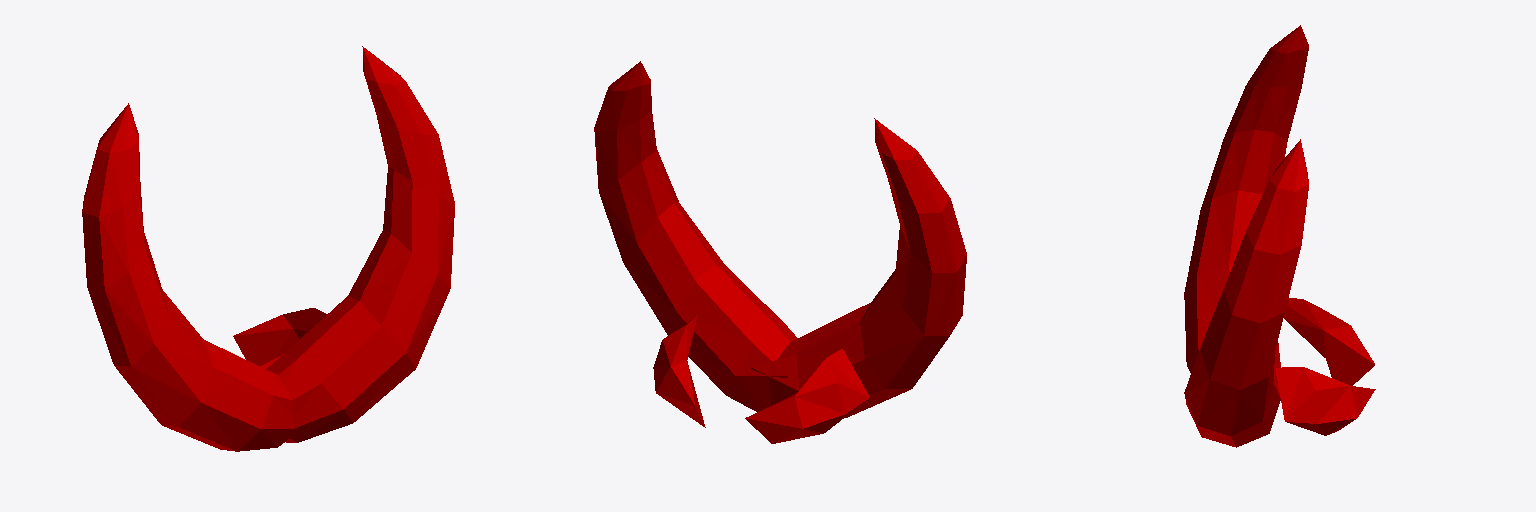
The model's file is duckEvil.obj.
3 views of the same model, side by side, from view 1: azimuth 30°, elevation 25°; view 2: azimuth 150°, elevation 25°; view 3: azimuth 270°, elevation 25° (orthographic).
Visible parts, largest first — view 1: Object03.002; view 2: Object03.002; view 3: Object03.002.
Part boxes in pixels (x1,y1,x2,y2): Object03.002: (82,46,454,451); Object03.002: (594,61,966,443); Object03.002: (1184,25,1375,447).
Size of the model in its own units: 22.56 by 20.95 by 10.45.